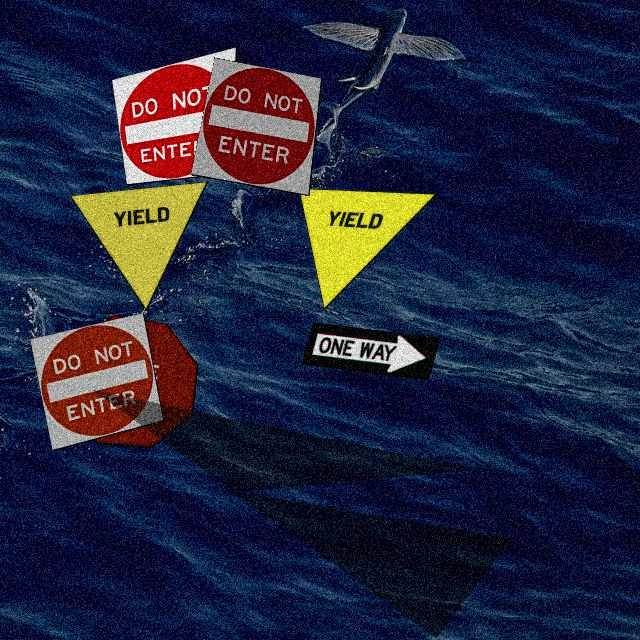DO_NOT_ENTER: (29, 312, 164, 451), (190, 57, 322, 196), (111, 46, 237, 185)
FAKE_STOP: (59, 314, 198, 448)
ONE_WAY_ right: (301, 322, 440, 380)
YIELD: (69, 181, 208, 311), (298, 188, 437, 310)
